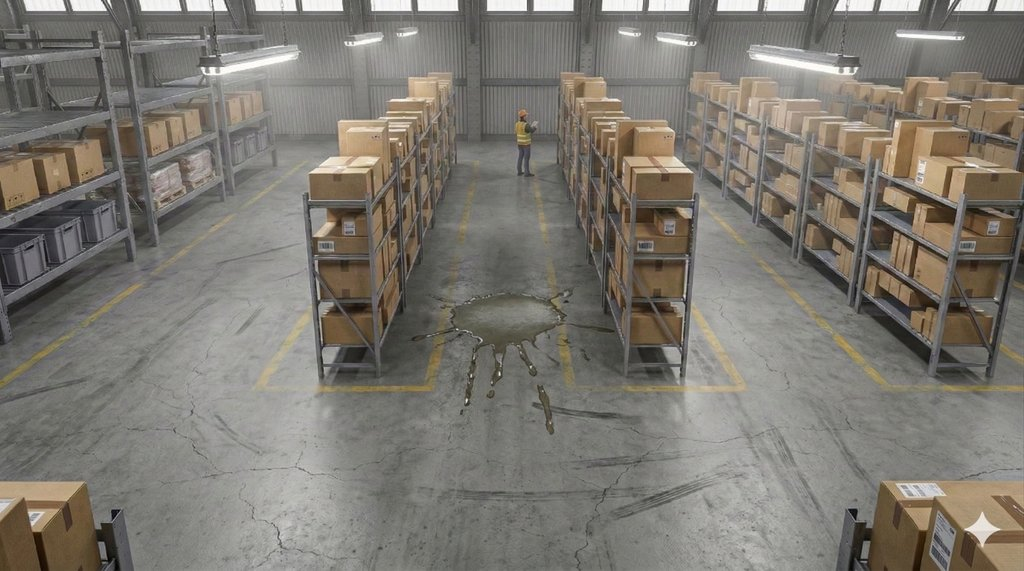empty_shelf: (3, 24, 119, 129), (125, 18, 205, 100)
person: (505, 106, 556, 180)
safety_vest: (513, 118, 540, 158)
spill: (418, 261, 617, 396)
